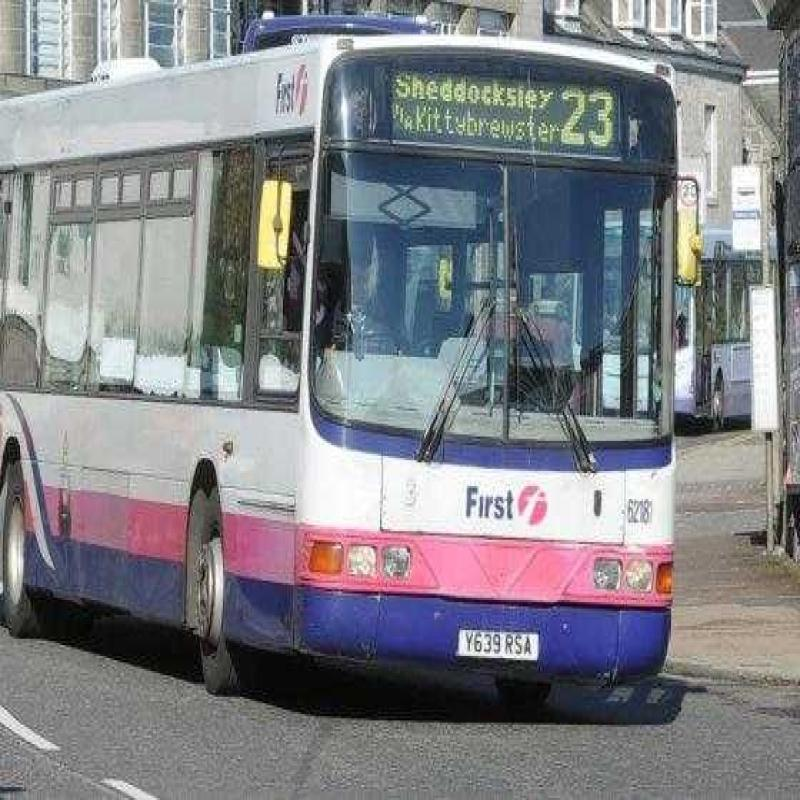bus: (29, 49, 687, 723)
